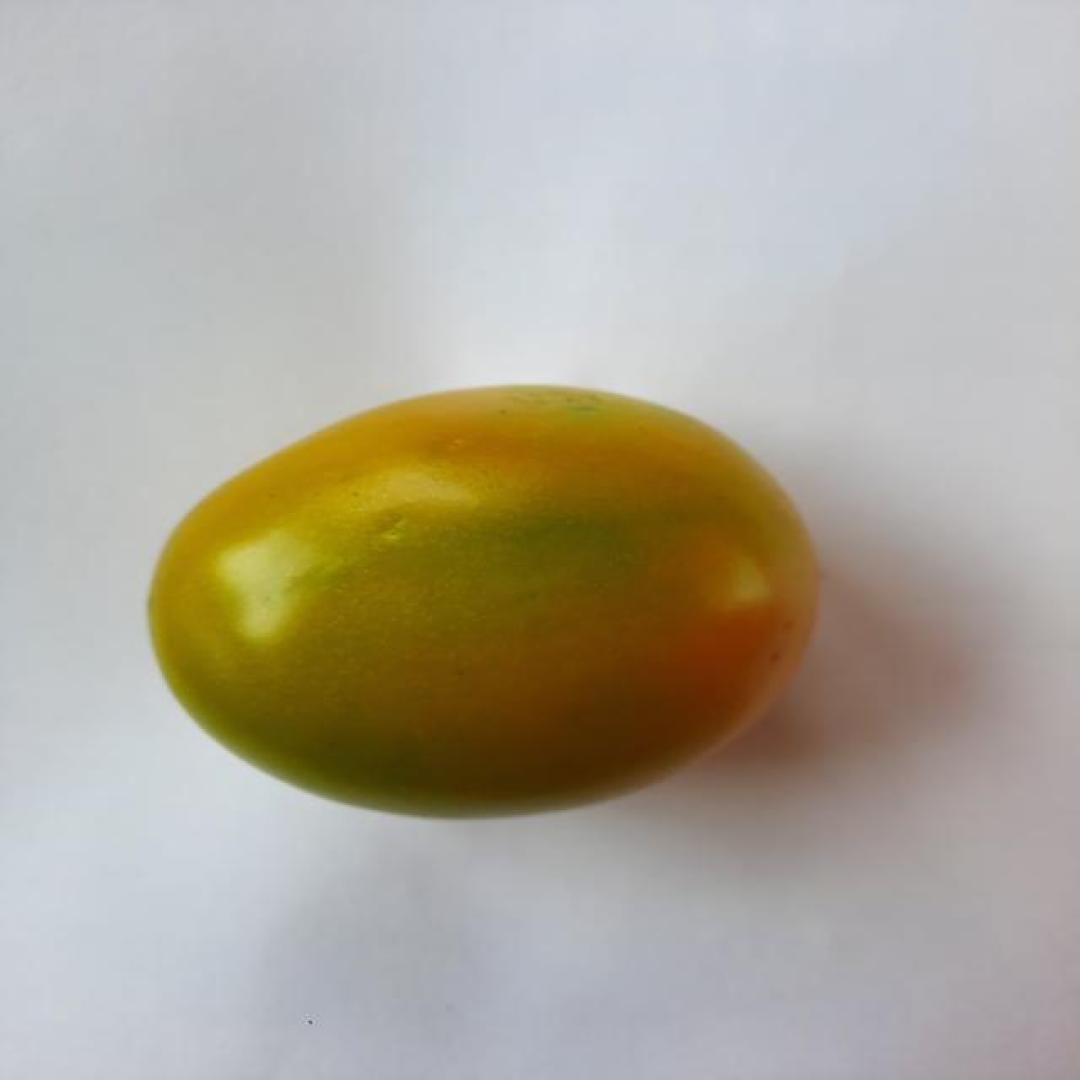setengah_matang: (144, 378, 824, 825)
